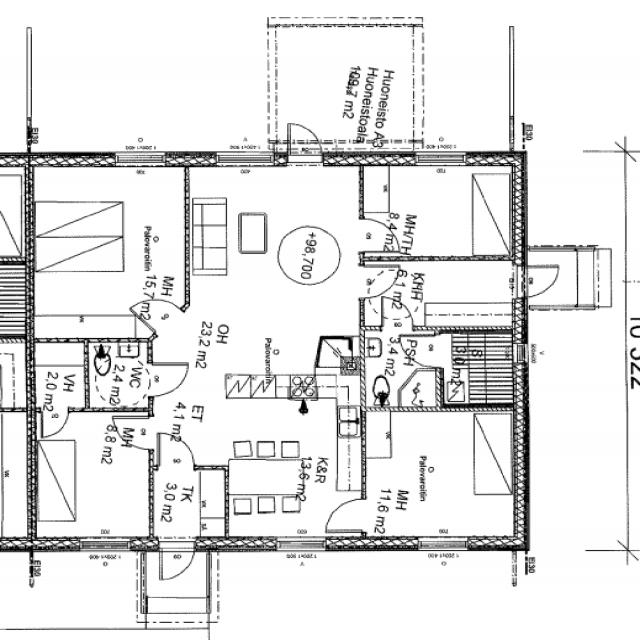door: (155, 538, 197, 584), (148, 361, 190, 399), (323, 494, 366, 531), (285, 119, 324, 157), (522, 263, 562, 300), (156, 432, 197, 467), (37, 407, 70, 439)
window: (74, 535, 134, 558), (271, 534, 327, 555), (412, 149, 470, 169), (111, 150, 167, 170), (213, 150, 274, 168), (415, 537, 471, 554), (508, 554, 517, 581)
zone: (172, 157, 356, 433), (216, 385, 360, 539), (358, 411, 514, 537), (36, 413, 152, 544), (363, 163, 518, 260), (150, 466, 226, 541), (88, 342, 152, 411), (31, 342, 89, 410), (0, 166, 32, 263), (401, 367, 444, 410)
